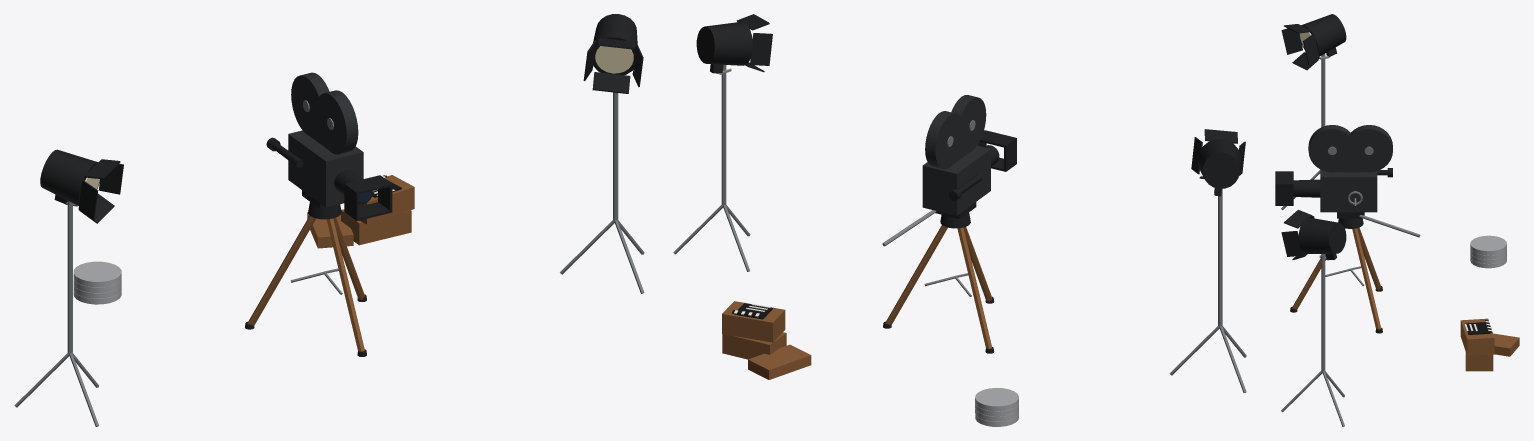
Rendered from film-set.glb.
3 views of the same model, side by side, from view 1: azimuth 30°, elevation 25°; view 2: azimuth 150°, elevation 25°; view 3: azimuth 270°, elevation 25° (orthographic). The views are drawn at different scales.
Visible parts, largest first — view 1: body12, body18, trim30, trim15, body16, wood47, trim41, can58, wood0, wood2, wood48, steel28 (+5 smaller); view 2: body12, trim41, trim30, body16, wood48, wood49, body18, wood47, can58, trim15, wood2, wood1 (+3 smaller); view 3: body12, body16, body18, trim41, trim30, wood48, trim15, can58, wood1, steel39, trim13, wood49 (+9 smaller).
Part boxes in pixels (box(x1,y1,x2,y2)): body12: box(288, 130, 363, 207); body18: box(315, 90, 358, 154); trim30: box(40, 149, 99, 205); trim15: box(344, 175, 392, 221); body16: box(291, 72, 329, 136); wood47: box(341, 209, 411, 245); trim41: box(593, 14, 637, 75); can58: box(73, 261, 121, 287); wood0: box(326, 218, 364, 351); wood2: box(247, 215, 316, 326); wood48: box(358, 175, 414, 224); steel28: box(67, 201, 72, 353); body12: box(922, 145, 990, 215); trim41: box(696, 22, 752, 65); trim30: box(1197, 139, 1241, 188); body16: box(925, 111, 964, 169); wood48: box(722, 301, 785, 342); wood49: box(748, 344, 811, 379); body18: box(951, 95, 986, 153); wood47: box(722, 332, 786, 359); can58: box(975, 388, 1018, 411); trim15: box(977, 130, 1016, 171); wood2: box(957, 227, 991, 348); wood1: box(885, 225, 947, 325); body12: box(1320, 169, 1377, 212); body16: box(1345, 125, 1392, 172); body18: box(1308, 125, 1356, 172); trim41: box(1298, 218, 1346, 254); trim30: box(1299, 14, 1346, 56); wood48: box(1460, 318, 1494, 355); trim15: box(1275, 171, 1293, 205); can58: box(1470, 235, 1506, 255); wood1: box(1352, 228, 1381, 329); steel39: box(1321, 254, 1325, 371); trim13: box(1293, 179, 1320, 197); wood49: box(1493, 333, 1519, 356).
Size of the model in its own units: 6 by 2.3 by 2.66.
